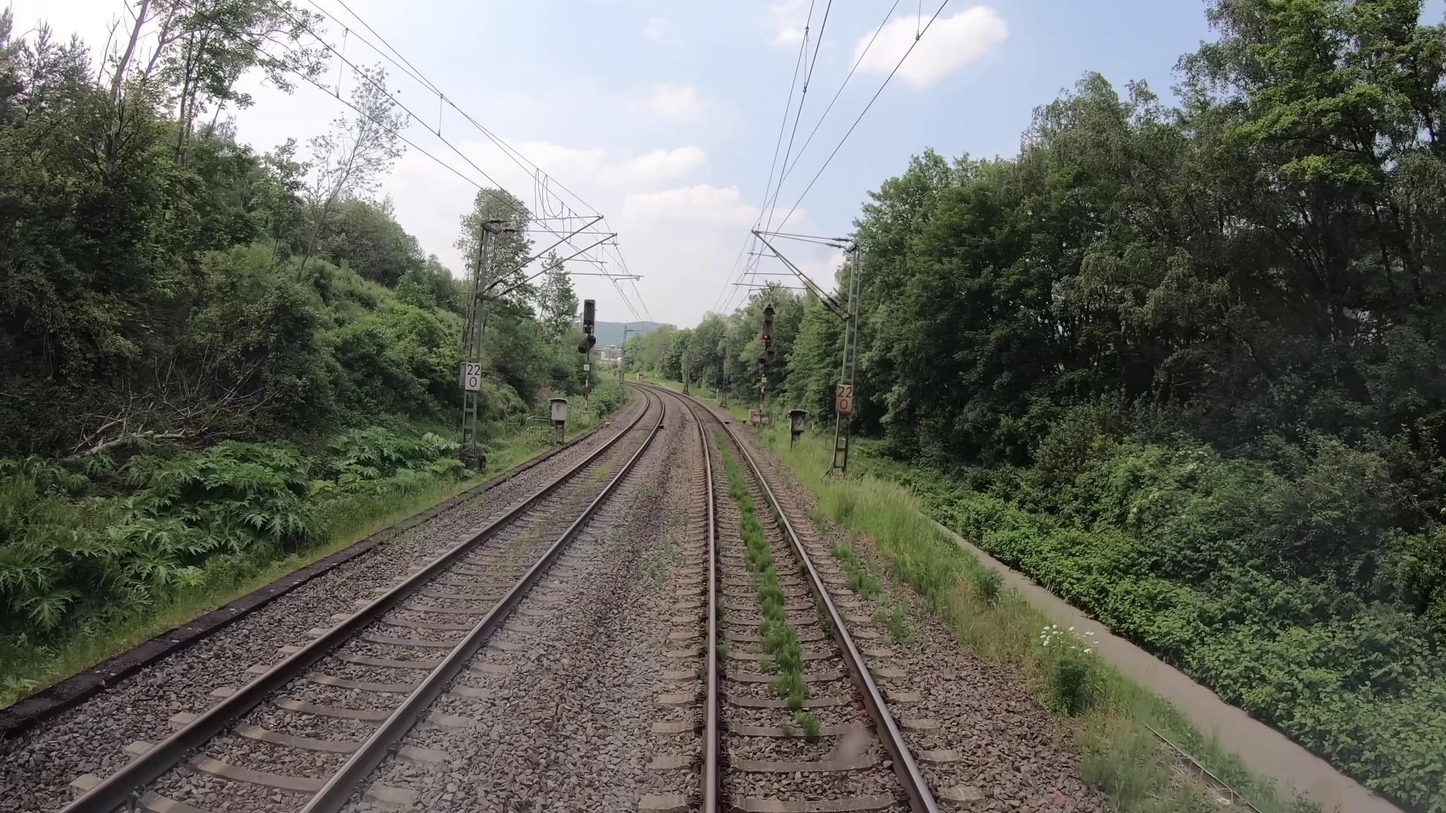Plant: (810, 477, 1314, 812), (706, 423, 822, 743)
